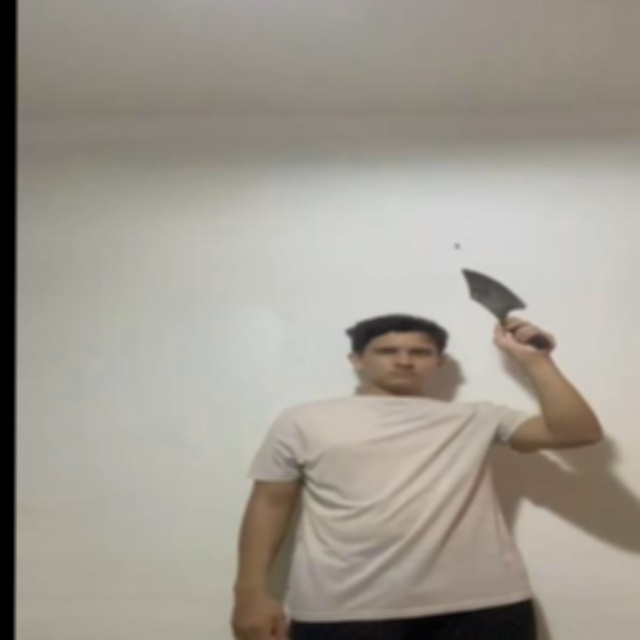Sharp-Object: (456, 270, 522, 310)
